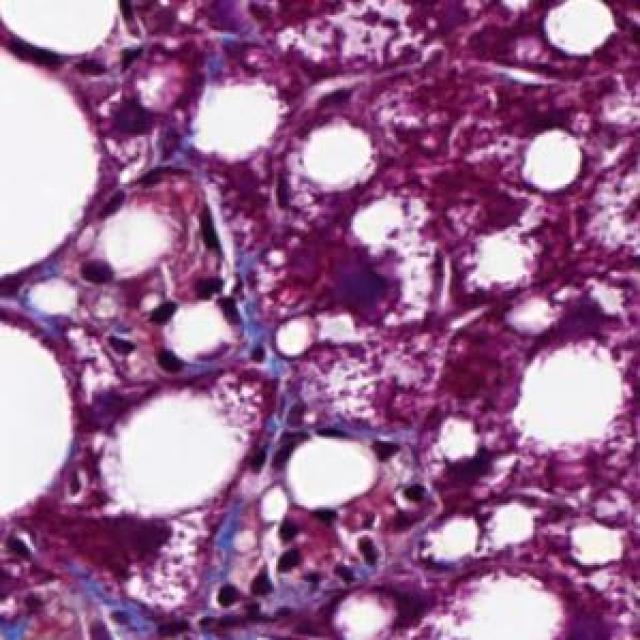inflammation: (197, 516, 404, 610), (328, 240, 404, 344), (197, 201, 246, 330), (99, 79, 169, 150), (146, 293, 188, 383)
